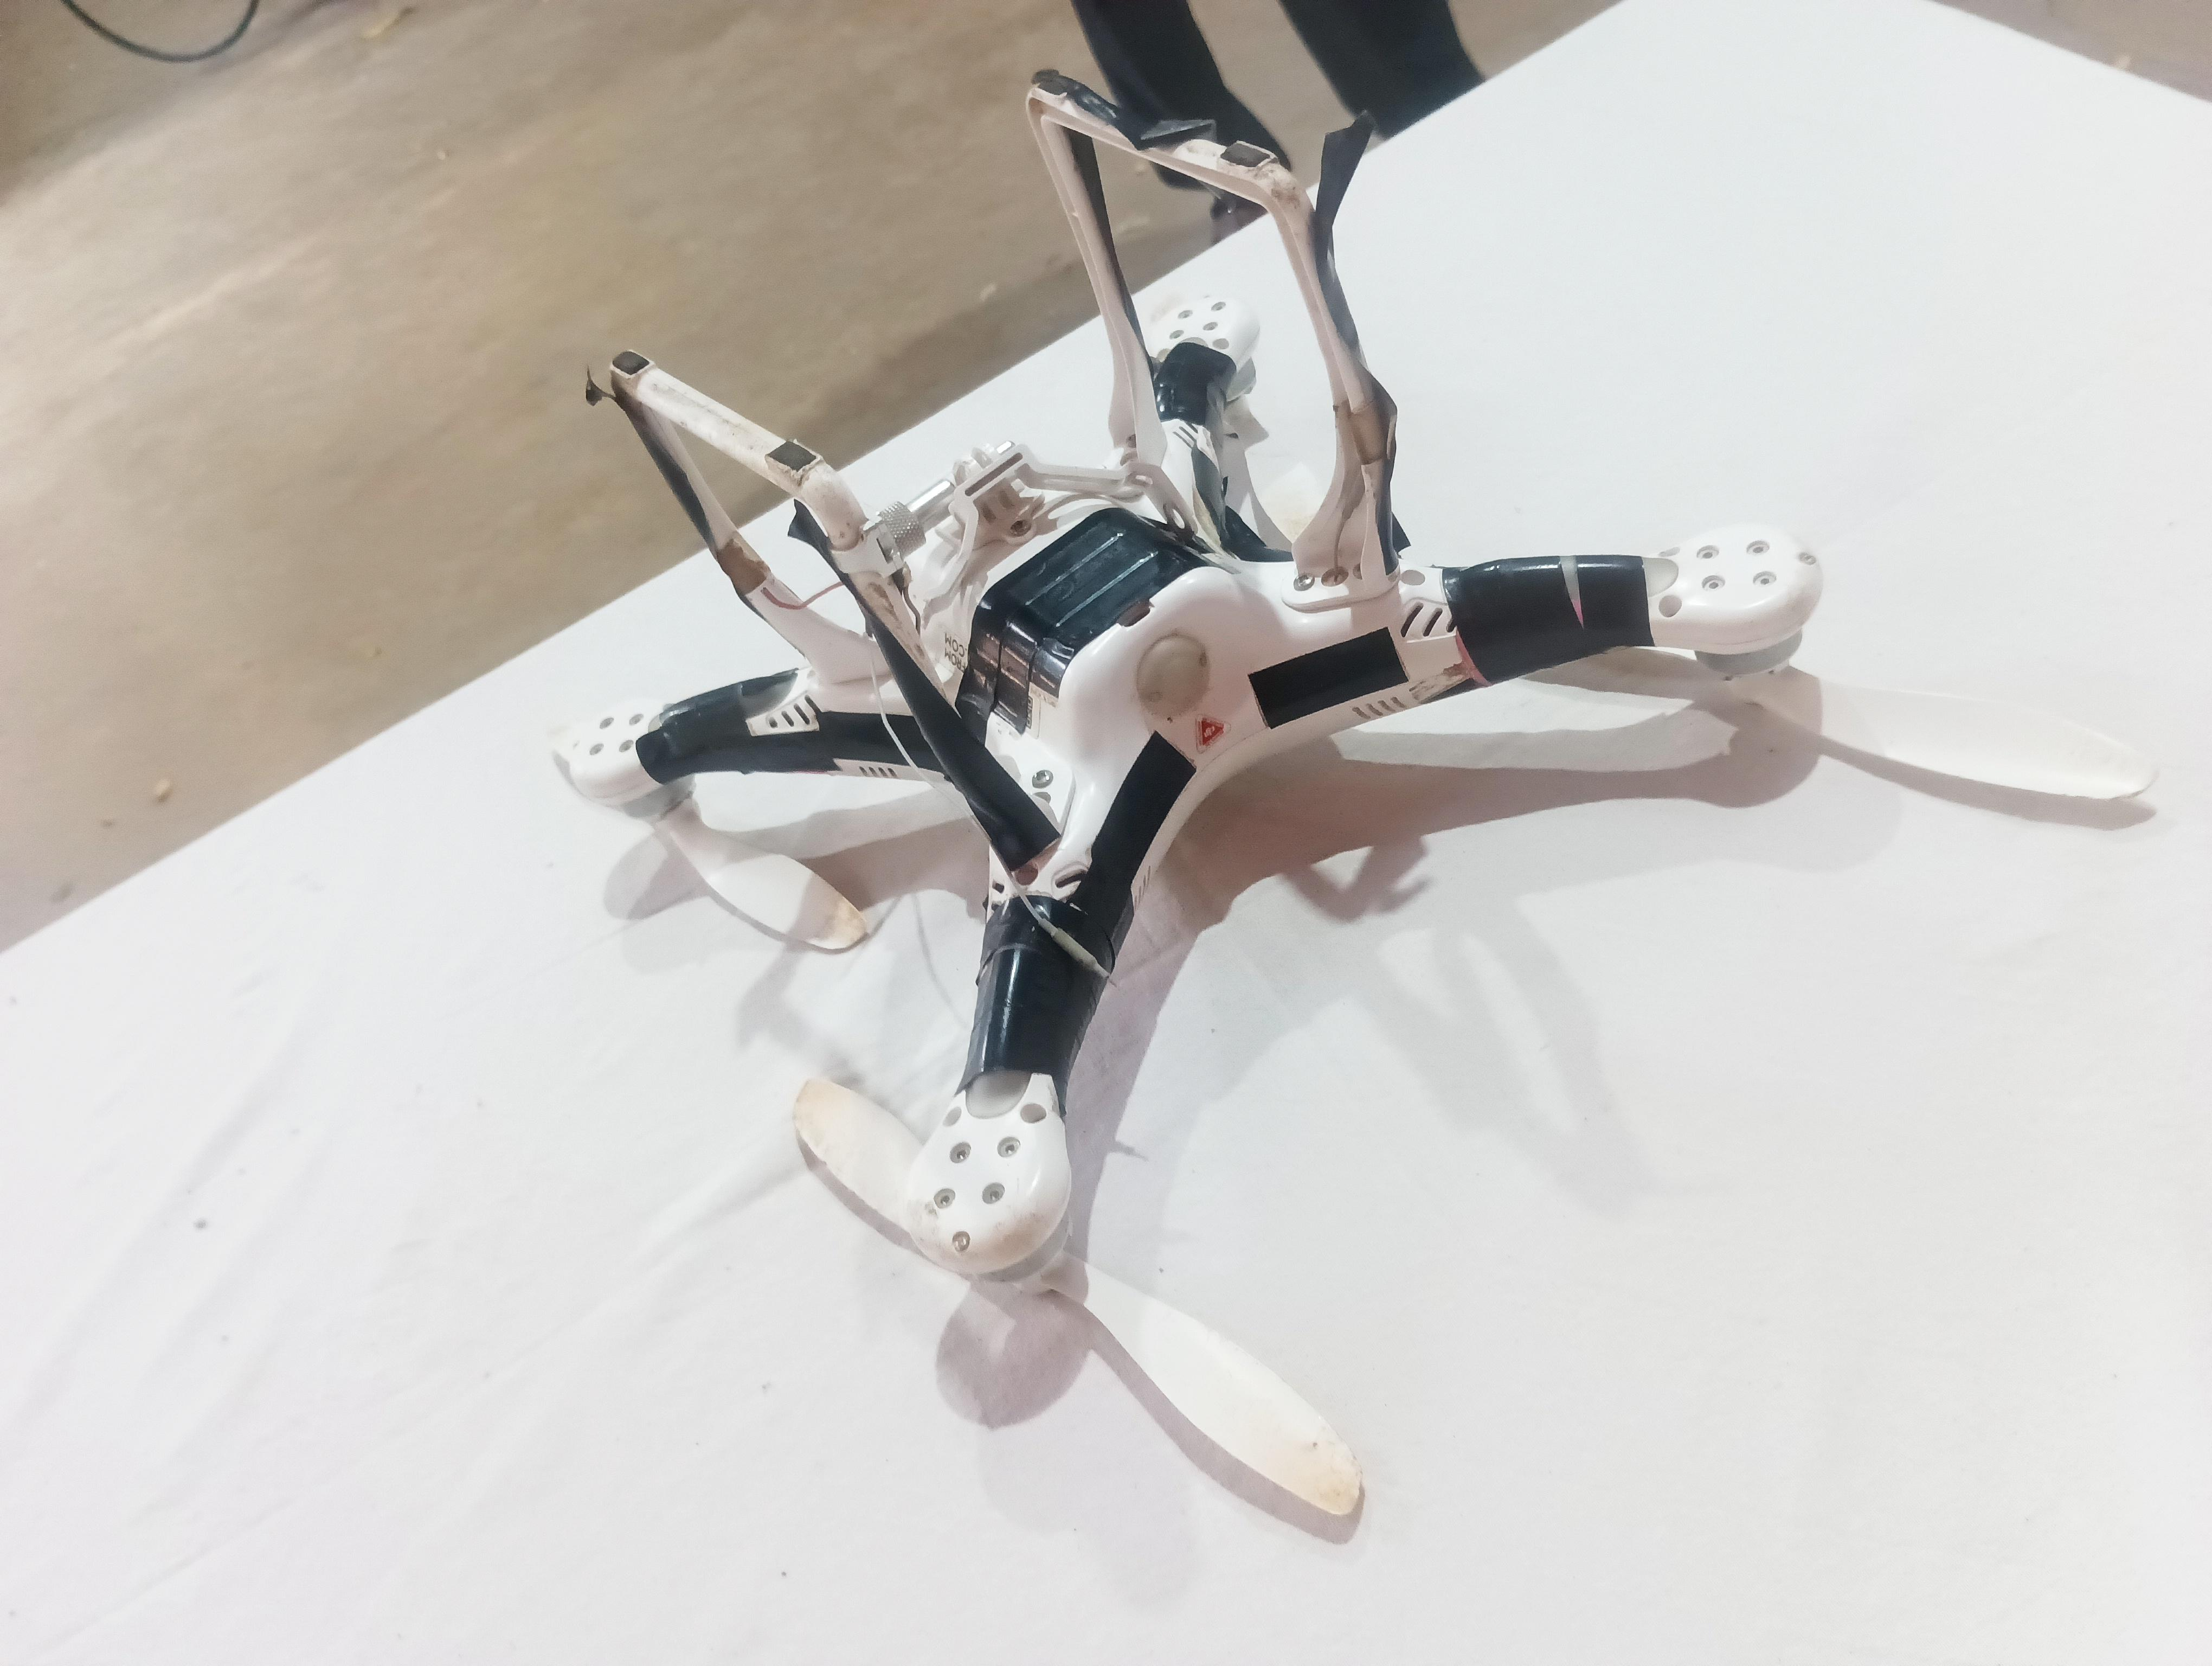drone: (538, 72, 1925, 1388)
